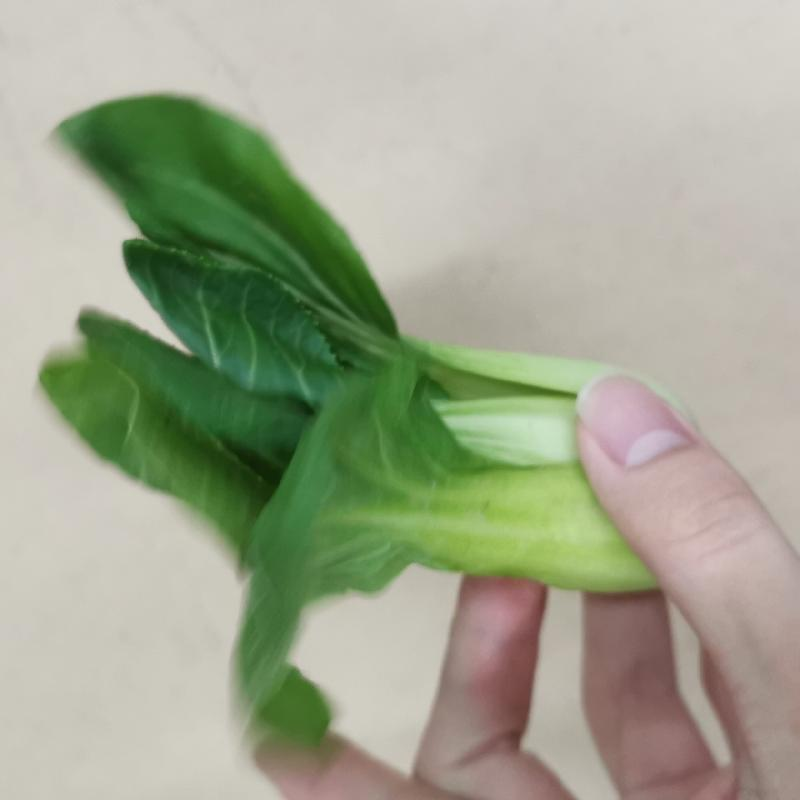green vegatable: (33, 101, 708, 614)
